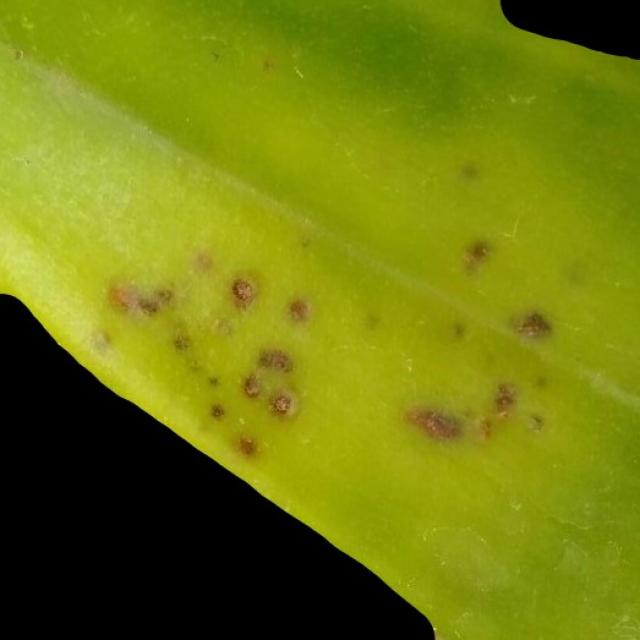mite: (103, 157, 568, 465), (202, 269, 312, 458), (226, 426, 264, 463), (264, 385, 299, 421), (257, 346, 294, 373), (491, 381, 515, 416), (285, 295, 310, 323), (233, 431, 258, 458), (240, 371, 262, 399), (268, 392, 292, 416), (169, 329, 192, 354), (466, 239, 488, 261), (208, 400, 225, 421), (206, 373, 220, 388)
sunburn: (99, 245, 318, 464)
